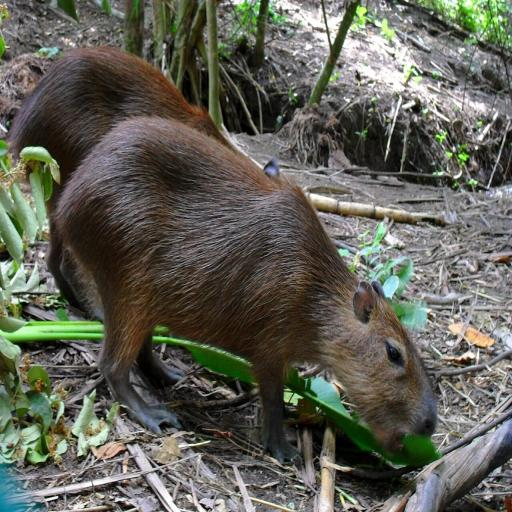capybara: (53, 118, 436, 460), (8, 48, 230, 186)
